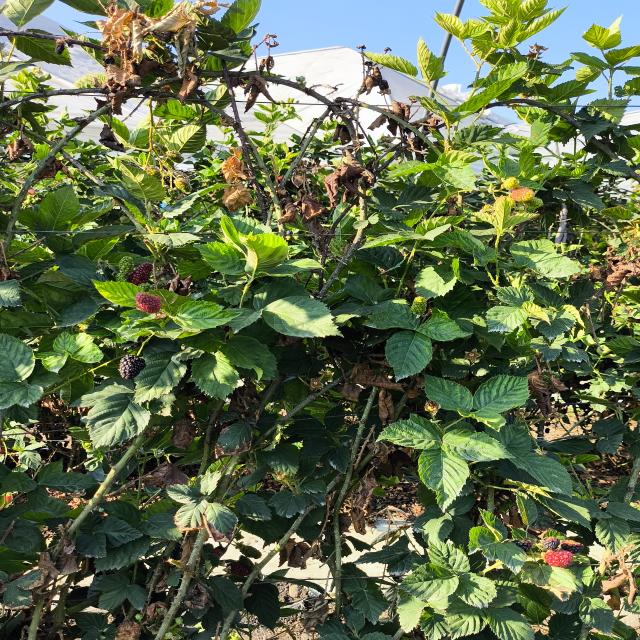maduro: (119, 355, 146, 379)
marron: (128, 263, 152, 285)
naranja: (135, 292, 162, 313), (543, 550, 573, 567)
verde: (510, 187, 534, 202), (411, 296, 427, 316), (119, 257, 134, 274), (525, 197, 543, 209), (503, 177, 519, 189)
